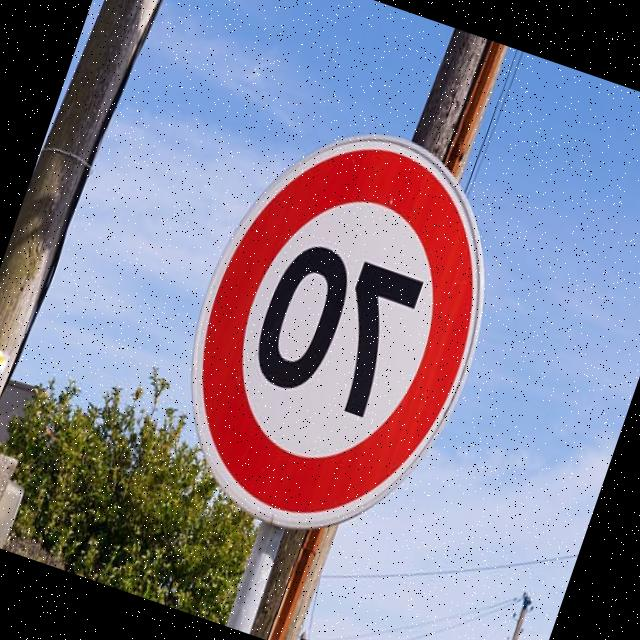speed_limit_70: (140, 89, 536, 570)
